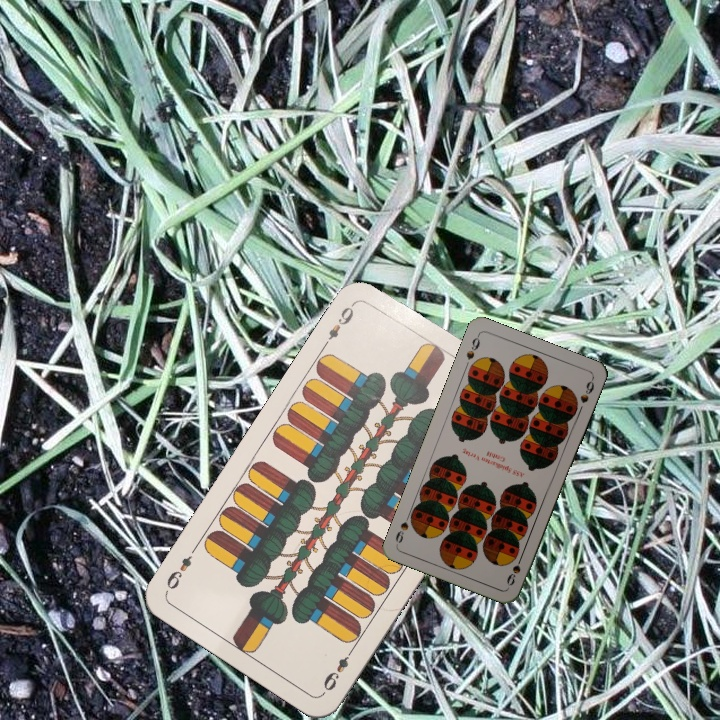E9: (319, 298, 358, 350), (319, 643, 357, 696)
S9: (503, 550, 526, 589), (462, 331, 482, 362)
